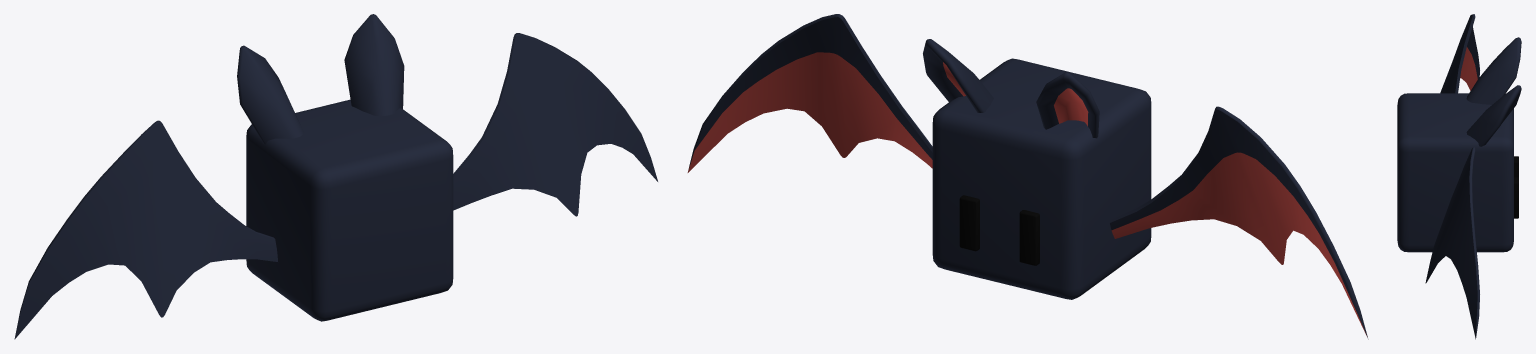
Rendered from Character_Bat_01a.fbx.
3 renders of one model, left to right at view 1: azimuth 30°, elevation 25°; view 2: azimuth 150°, elevation 25°; view 3: azimuth 270°, elevation 25°, orthographic. The views are drawn at different scales.
Parts seen in each view (by area): view 1: Character_Bat_01a; view 2: Character_Bat_01a; view 3: Character_Bat_01a.
Boxes of the visible parts, left/top/right/bottom form: Character_Bat_01a: left=14, top=14, right=657, bottom=339; Character_Bat_01a: left=687, top=14, right=1368, bottom=339; Character_Bat_01a: left=1397, top=14, right=1521, bottom=339.
Size of the model in its own units: 52.42 by 17.3 by 11.58.
